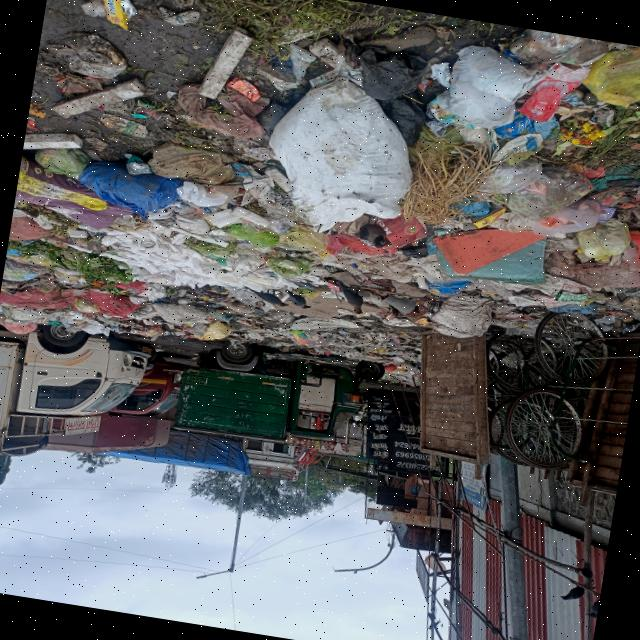garbage: (10, 0, 640, 337), (0, 242, 427, 380)
